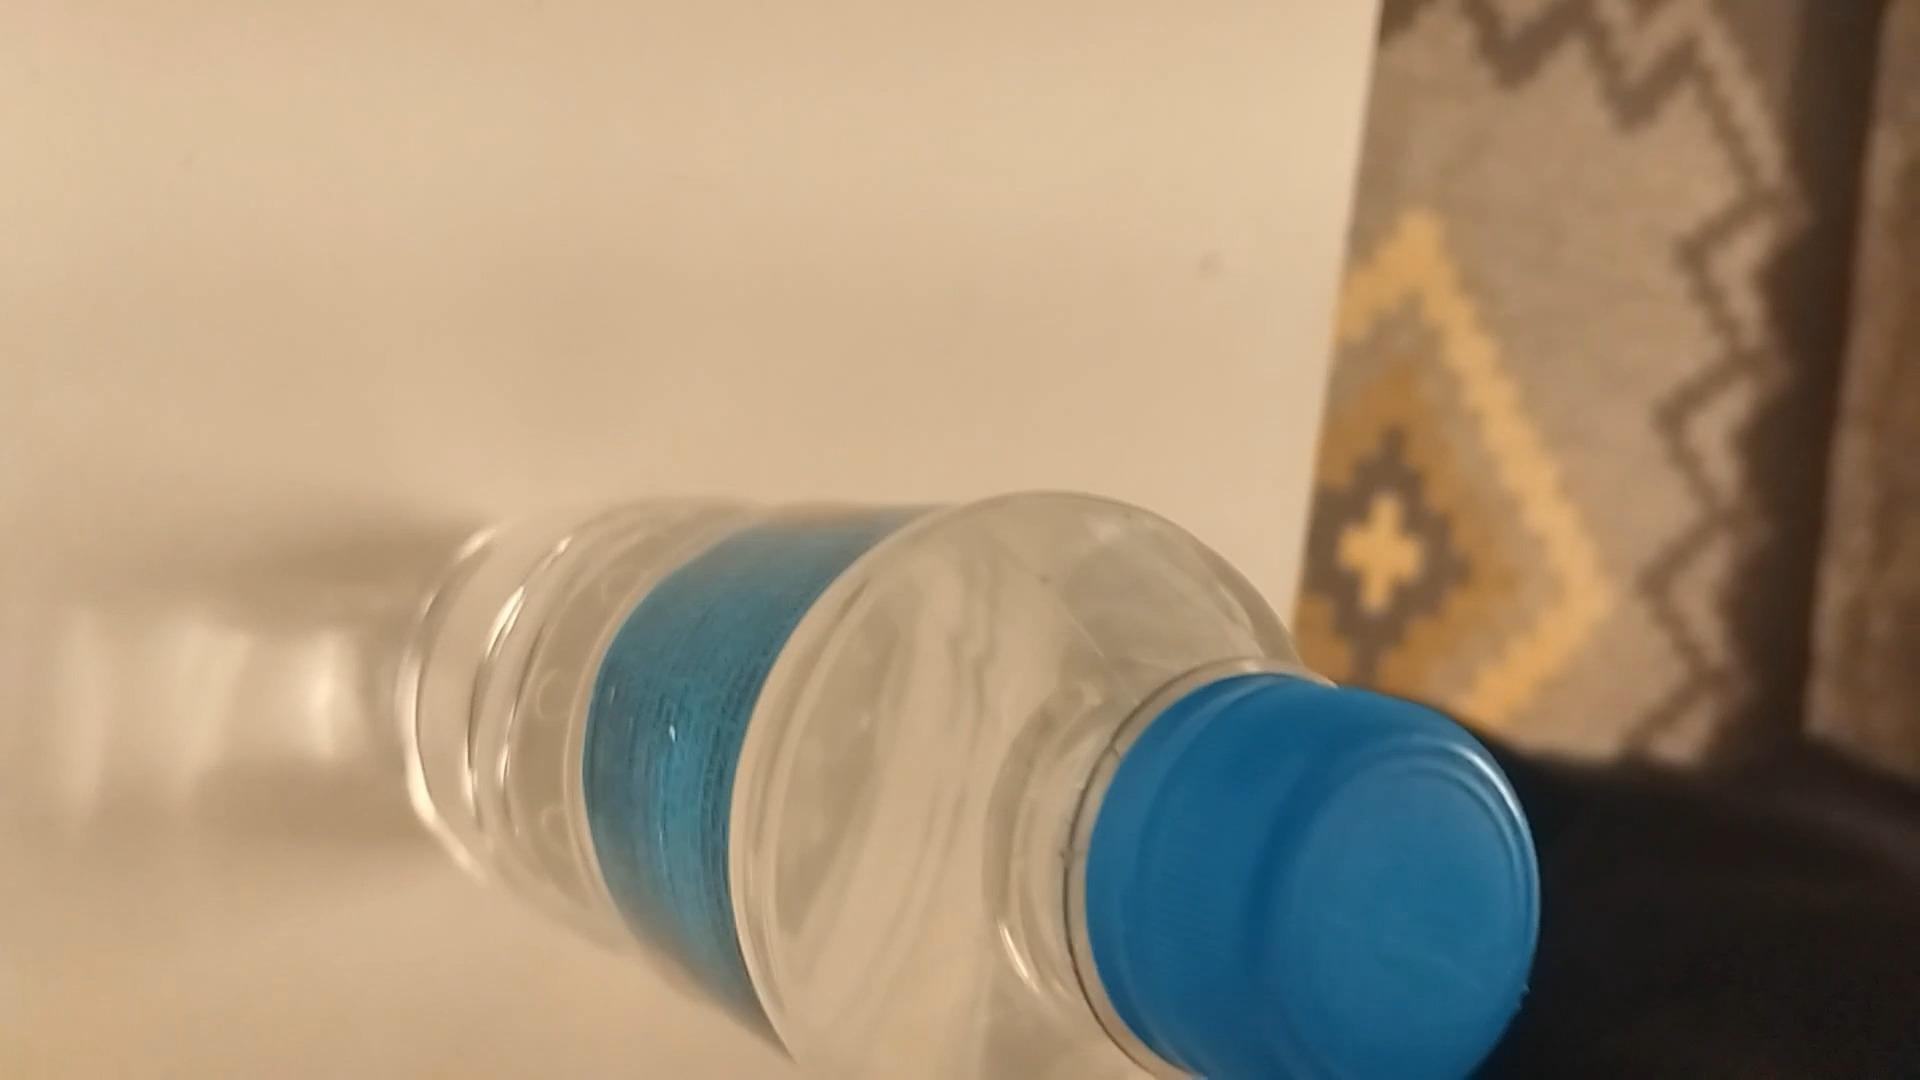agua: (423, 492, 1510, 1080)
